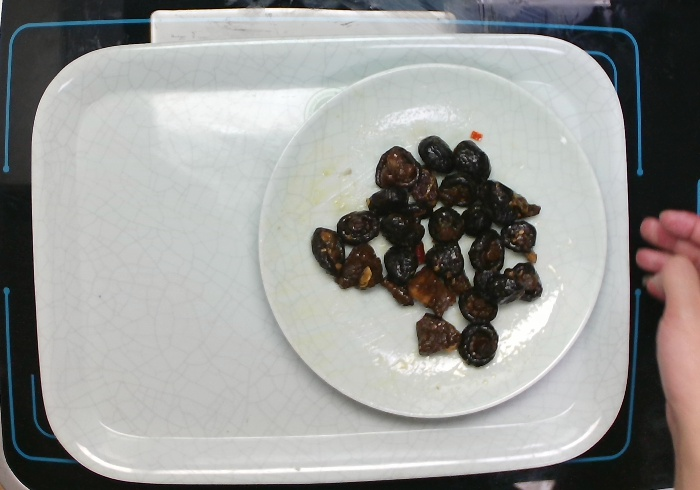JYsf-Da_Yuan_Pan: (248, 57, 612, 424)
